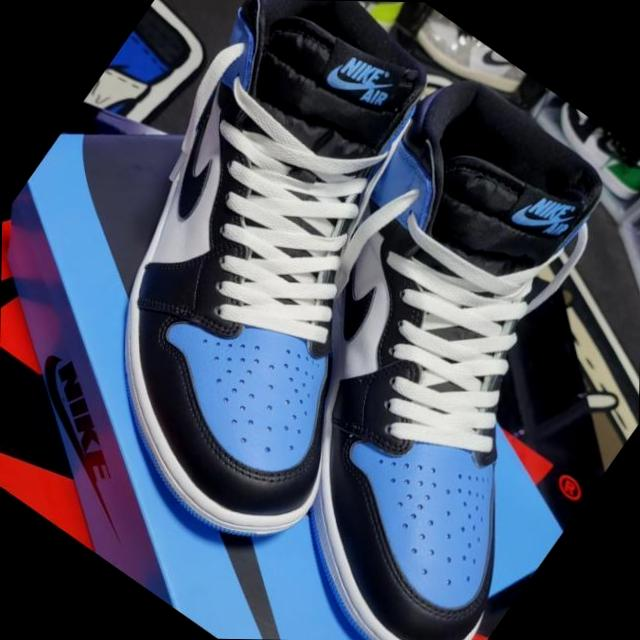nike_original_jordan: (0, 0, 567, 578), (140, 47, 640, 640)
